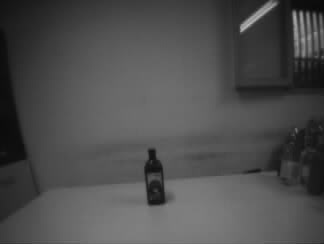Bottle: (143, 148, 166, 205), (280, 122, 299, 184)
